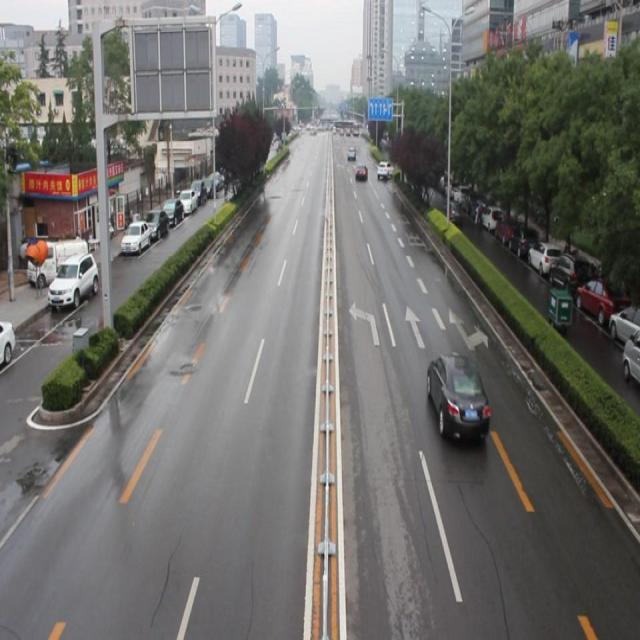car: (425, 352, 490, 444), (375, 160, 394, 180), (354, 164, 367, 182)
